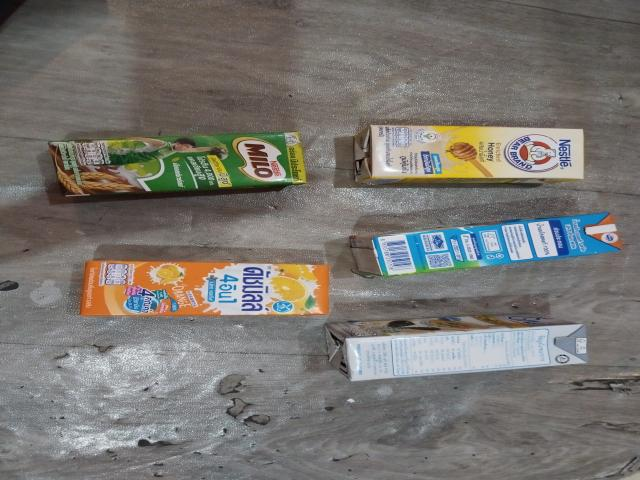drink_box: (335, 202, 640, 289), (65, 255, 331, 326), (356, 122, 617, 190), (42, 133, 306, 200), (324, 320, 596, 376)
